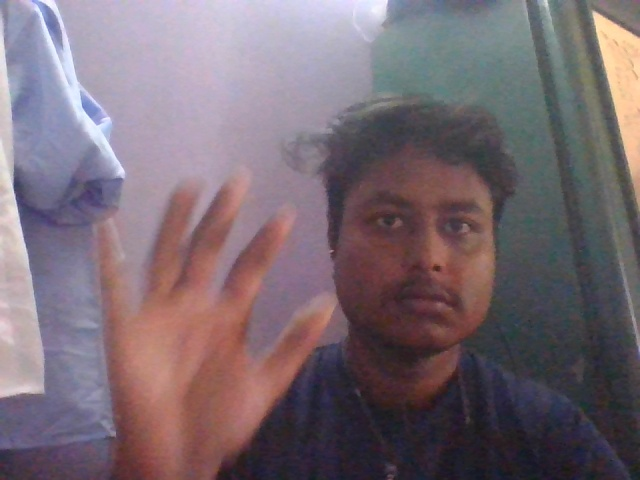hello: (82, 150, 342, 480)
